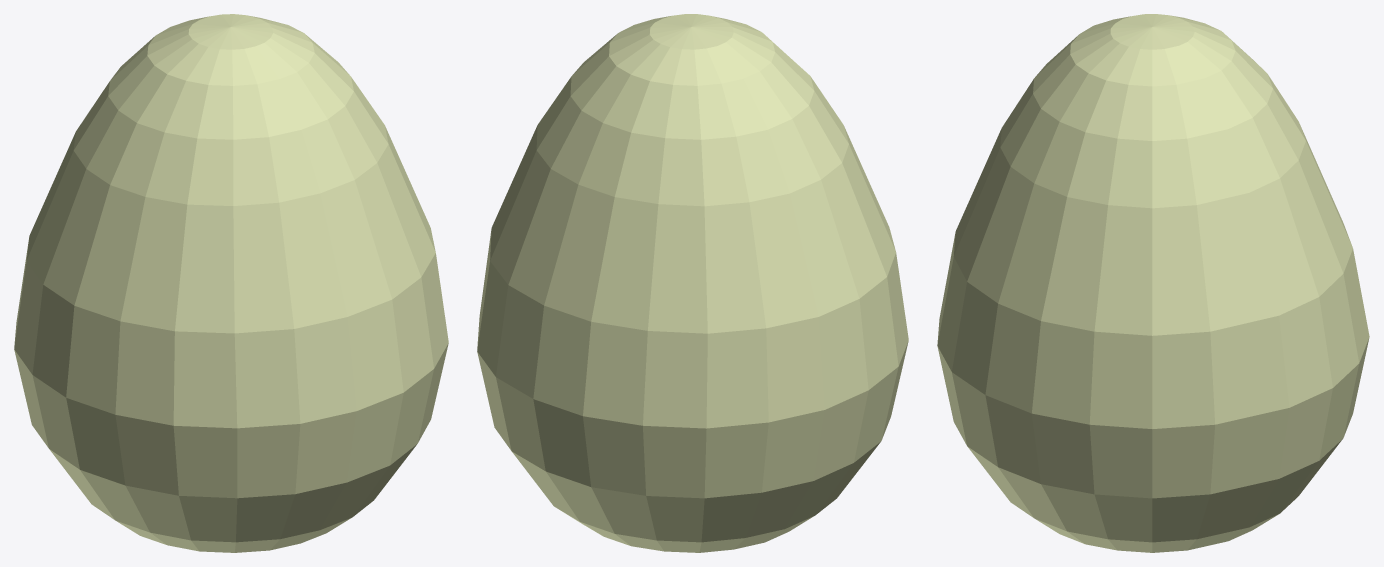
Rendered from Egg.fbx.
3 renders of one model, left to right at view 1: azimuth 30°, elevation 25°; view 2: azimuth 150°, elevation 25°; view 3: azimuth 270°, elevation 25°, orthographic.
Parts seen in each view (by area): view 1: Sphere; view 2: Sphere; view 3: Sphere.
Part boxes in pixels (x1,y1,x2,y2): Sphere: [14, 14, 448, 552]; Sphere: [477, 14, 908, 552]; Sphere: [937, 14, 1369, 552].
Bounding box in the file's own units: 199 × 258 × 201.
